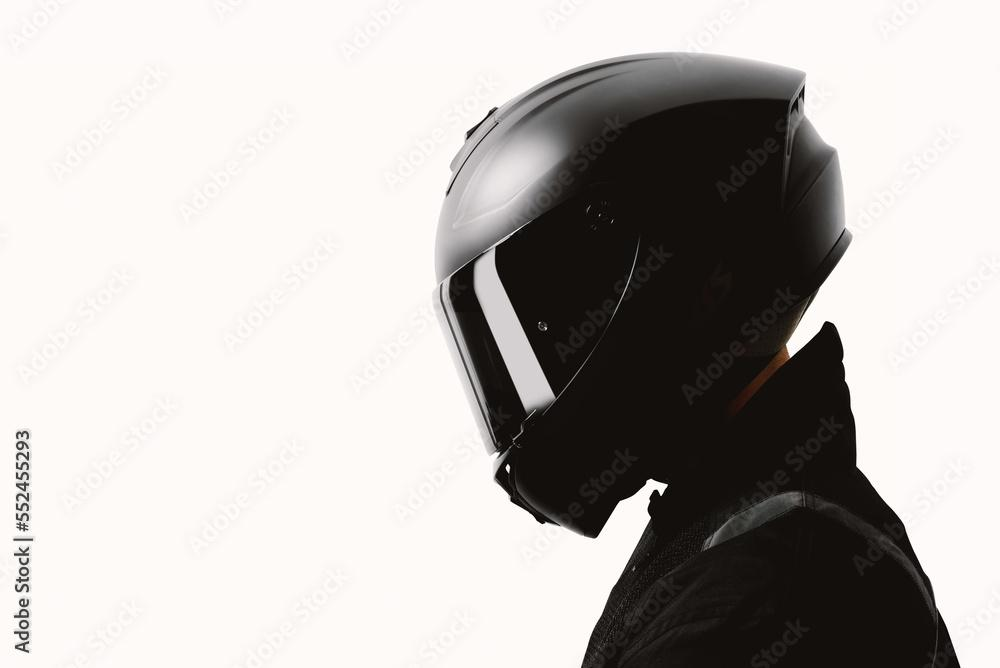helmet: (430, 50, 855, 541)
